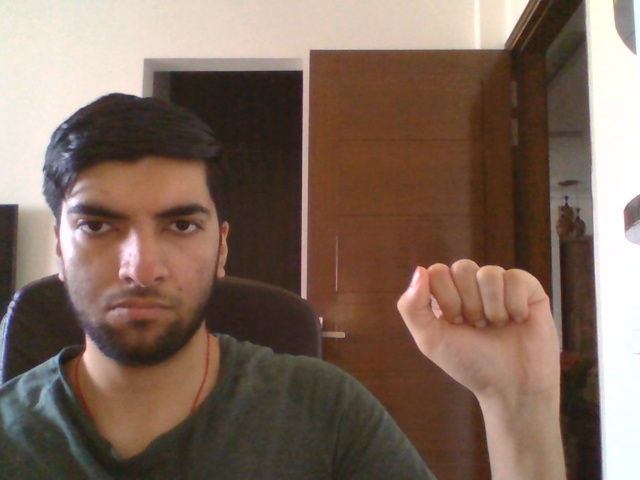LetterA: (394, 257, 562, 402)
